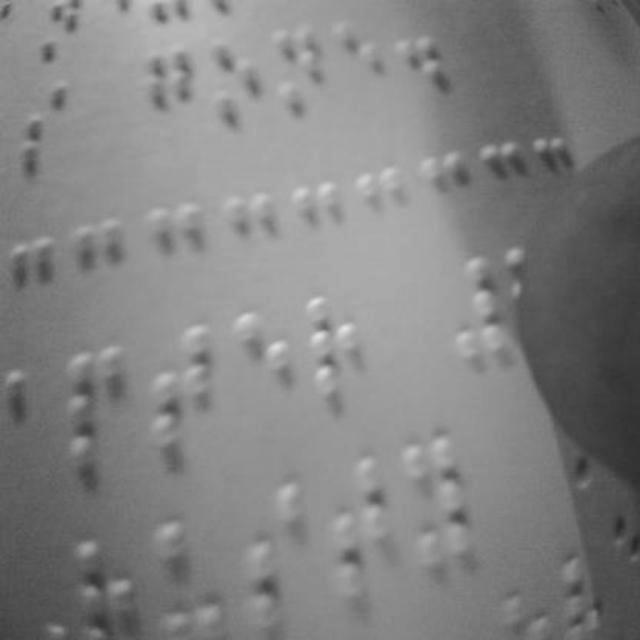braiile: (326, 443, 399, 613), (241, 468, 313, 636), (400, 429, 478, 573), (65, 340, 141, 480), (147, 320, 220, 460), (156, 506, 228, 640), (304, 288, 374, 417), (231, 294, 295, 430), (1, 352, 62, 480), (14, 58, 70, 178), (140, 42, 196, 154), (207, 32, 263, 144), (268, 16, 326, 122), (331, 10, 384, 111)
